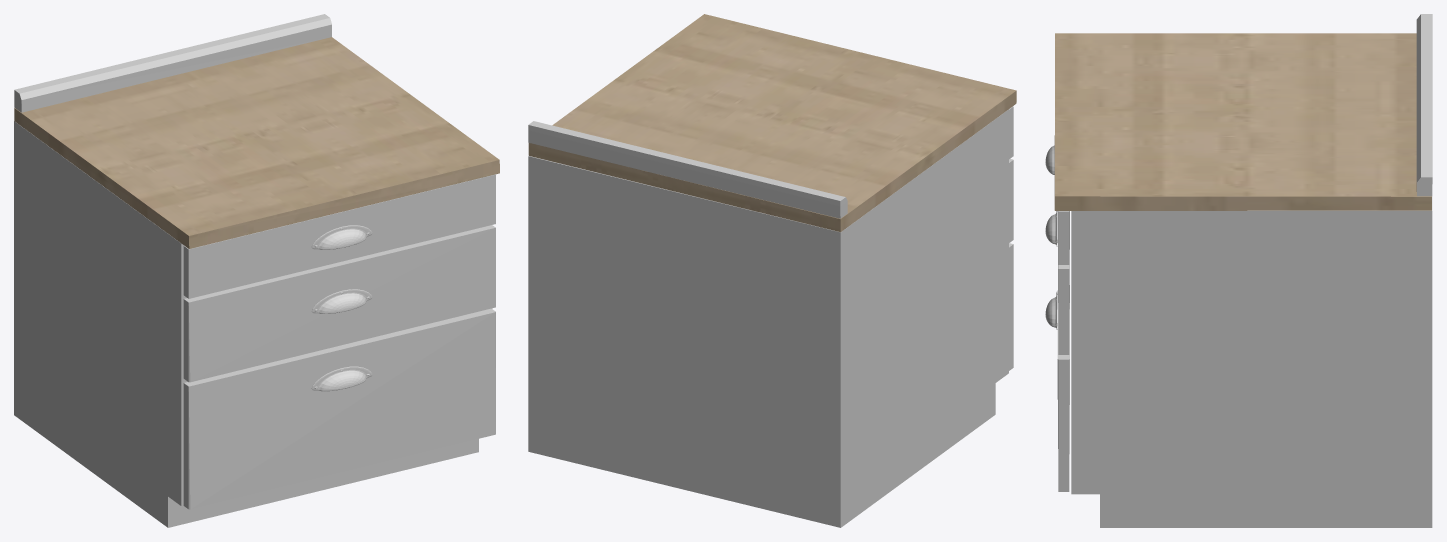
Rendered from sh-bsby-kitchen-drawers-cabinet.glb.
The picture shows the model from 3 angles, left to right: view 1: azimuth 30°, elevation 25°; view 2: azimuth 150°, elevation 25°; view 3: azimuth 270°, elevation 25°; orthographic projection. The views are drawn at different scales.
Visible parts, largest first — view 1: Door-and-Drawers-Right.001_Cube.007, Worktop-Right_Cube.010, Plane.014_Plane.005, Cup-Handle-Right_Sphere.009; view 2: Door-and-Drawers-Right.001_Cube.007, Worktop-Right_Cube.010, Plane.014_Plane.005; view 3: Door-and-Drawers-Right.001_Cube.007, Worktop-Right_Cube.010, Plane.014_Plane.005, Cup-Handle-Right_Sphere.009.
Boxes of the visible parts, <box> form: Door-and-Drawers-Right.001_Cube.007: <box>14,121,495,527</box>; Worktop-Right_Cube.010: <box>14,37,499,248</box>; Plane.014_Plane.005: <box>14,14,331,112</box>; Cup-Handle-Right_Sphere.009: <box>311,225,372,391</box>; Door-and-Drawers-Right.001_Cube.007: <box>528,106,1013,527</box>; Worktop-Right_Cube.010: <box>528,14,1016,232</box>; Plane.014_Plane.005: <box>528,121,847,218</box>; Door-and-Drawers-Right.001_Cube.007: <box>1057,196,1432,527</box>; Worktop-Right_Cube.010: <box>1054,33,1431,210</box>; Plane.014_Plane.005: <box>1416,14,1432,196</box>; Cup-Handle-Right_Sphere.009: <box>1045,145,1057,329</box>.
Bounding box in the file's own units: 1 × 0.9996 × 1.
3 materials, 1 textured.
